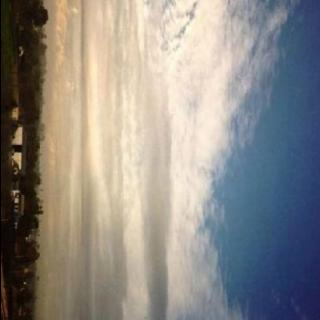Stratocumulus: (34, 0, 301, 320)
